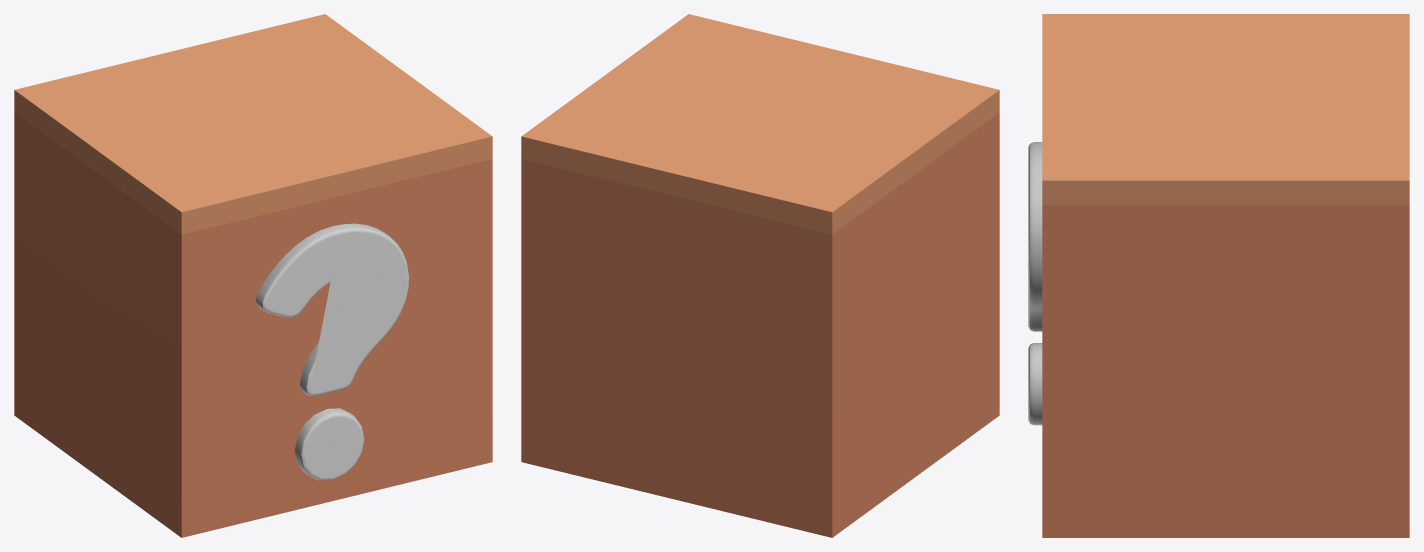
3 renders of one model, left to right at view 1: azimuth 30°, elevation 25°; view 2: azimuth 150°, elevation 25°; view 3: azimuth 270°, elevation 25°, orthographic. The views are drawn at different scales.
Parts seen in each view (by area): view 1: body, lap; view 2: body, lap; view 3: body, lap.
Boxes of the visible parts, box(x1,y1,x2,y2) form: body: box(14, 112, 492, 537); lap: box(14, 14, 492, 234); body: box(521, 112, 999, 537); lap: box(521, 14, 999, 234); body: box(1028, 142, 1409, 537); lap: box(1042, 14, 1409, 205).
Bounding box in the file's own units: 2.18 × 2.18 × 2.1.
